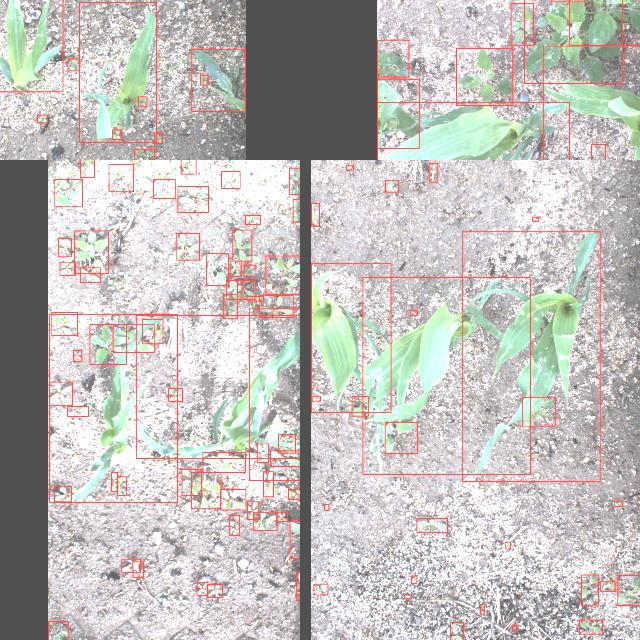crop: (462, 231, 600, 481), (362, 276, 530, 474), (49, 314, 177, 502), (134, 314, 300, 457), (310, 263, 390, 412), (376, 101, 569, 160), (542, 45, 640, 160), (78, 1, 156, 141), (249, 308, 300, 480), (0, 0, 62, 91), (191, 49, 245, 111), (376, 78, 418, 148)
weed: (523, 0, 622, 83), (456, 48, 512, 104), (569, 0, 640, 44), (74, 230, 108, 274), (88, 324, 125, 364), (265, 255, 300, 293), (112, 324, 154, 352), (377, 40, 408, 76), (191, 471, 221, 507), (522, 396, 556, 426), (384, 422, 416, 452), (510, 3, 532, 45), (202, 452, 244, 472), (52, 178, 82, 206), (176, 186, 208, 212), (259, 295, 293, 317), (206, 253, 228, 285), (617, 574, 640, 604), (175, 232, 199, 260), (108, 163, 132, 190), (51, 311, 77, 335), (232, 230, 252, 260), (580, 574, 598, 606), (219, 488, 245, 509), (48, 382, 72, 404), (181, 469, 201, 495), (142, 318, 162, 344), (270, 450, 300, 466), (152, 178, 174, 198), (253, 512, 277, 530), (416, 518, 446, 532), (289, 520, 300, 557), (47, 621, 67, 640), (220, 170, 240, 188), (223, 294, 237, 318), (237, 280, 255, 298), (79, 266, 99, 282), (351, 396, 367, 416), (580, 619, 602, 633), (278, 433, 294, 452), (225, 280, 241, 298), (289, 167, 300, 193), (120, 558, 140, 572), (134, 148, 154, 160), (590, 144, 605, 160), (263, 472, 273, 496), (78, 160, 93, 176), (449, 622, 462, 640), (54, 486, 70, 500), (66, 406, 88, 416), (246, 501, 258, 519), (58, 238, 70, 256), (229, 515, 239, 535), (428, 162, 438, 182), (180, 160, 195, 173), (206, 584, 222, 596), (258, 443, 268, 462), (310, 202, 318, 225), (60, 262, 74, 274), (168, 388, 182, 400), (384, 179, 398, 191), (116, 476, 125, 494), (293, 198, 300, 221), (230, 260, 240, 276), (67, 58, 79, 70), (196, 582, 208, 594), (244, 214, 260, 223), (132, 562, 142, 576), (600, 581, 614, 591), (313, 584, 327, 594), (243, 264, 254, 276), (288, 489, 300, 499), (296, 571, 300, 600), (111, 472, 117, 491), (111, 129, 121, 139), (72, 350, 82, 360), (200, 74, 208, 84), (154, 133, 162, 143), (37, 114, 47, 122), (138, 96, 146, 106), (276, 512, 286, 520), (246, 296, 264, 300), (614, 500, 622, 506), (410, 575, 416, 583), (480, 604, 484, 614), (310, 396, 320, 400), (504, 542, 510, 548), (346, 164, 352, 170), (409, 310, 416, 314), (404, 594, 411, 598), (532, 216, 538, 220), (512, 624, 516, 630), (324, 504, 328, 510)
